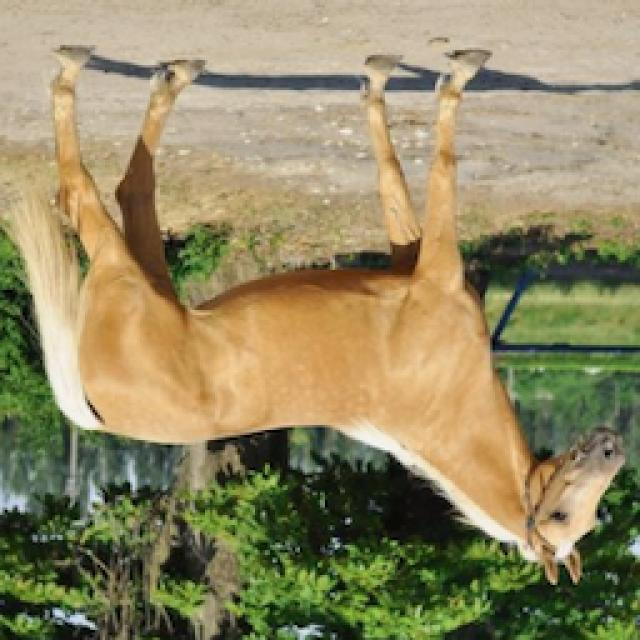Horse: (2, 40, 632, 592)
